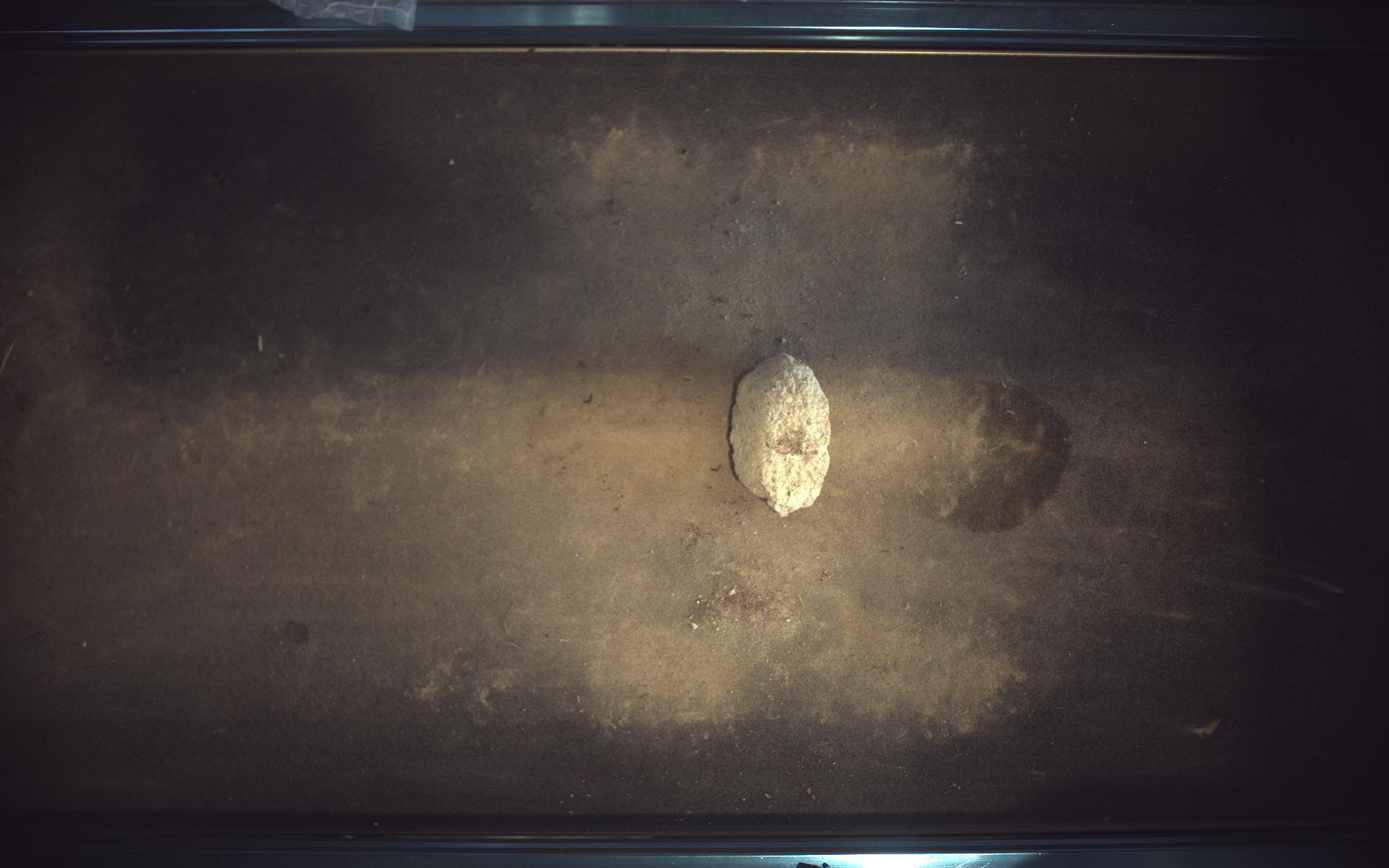stone: (731, 354, 833, 517)
